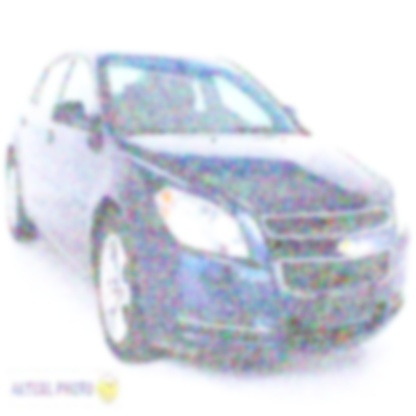Vehicle: (8, 41, 413, 366)
